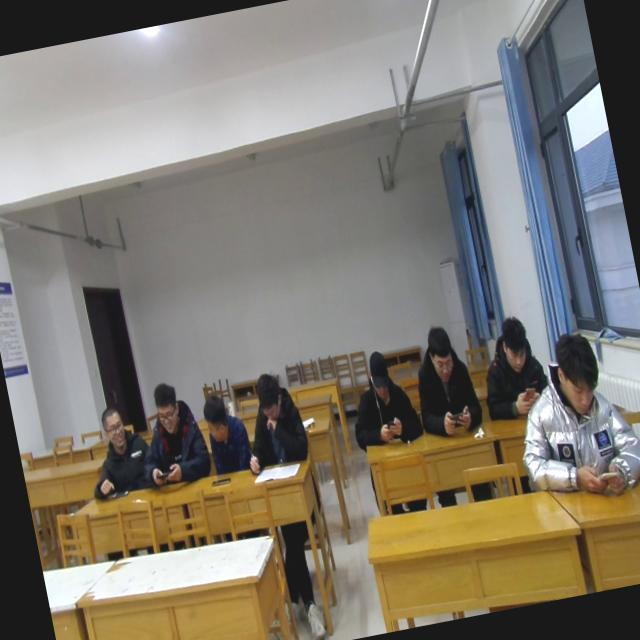down: (543, 322, 610, 422), (493, 309, 537, 378), (418, 316, 461, 386), (248, 366, 290, 430), (148, 379, 186, 438), (360, 342, 395, 404)
sit: (501, 324, 640, 509), (127, 372, 216, 496), (402, 318, 487, 444), (468, 311, 556, 424), (339, 345, 426, 455), (76, 398, 162, 506), (231, 364, 313, 476), (196, 386, 258, 476)
